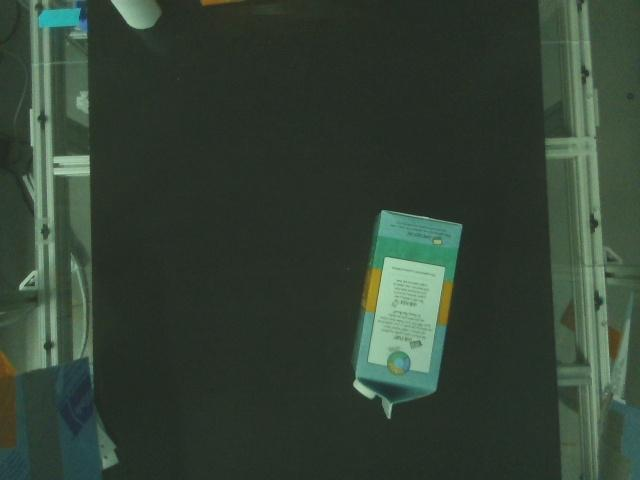cardboard: (345, 205, 467, 423), (105, 0, 165, 32), (195, 0, 250, 11)
